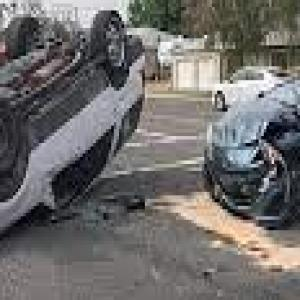critical: (0, 7, 147, 261)
